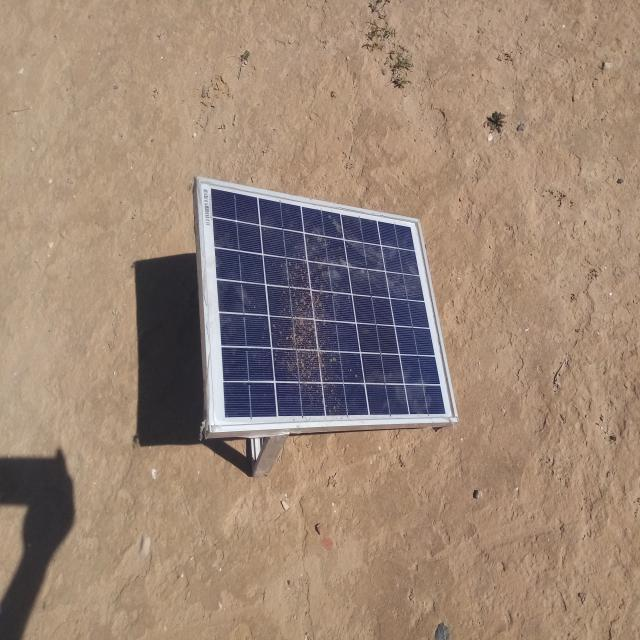faulty: (198, 180, 458, 429)
